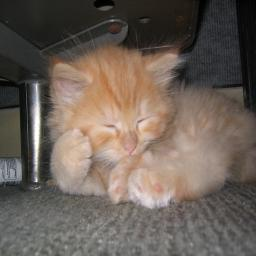catnose: (123, 136, 137, 152)
